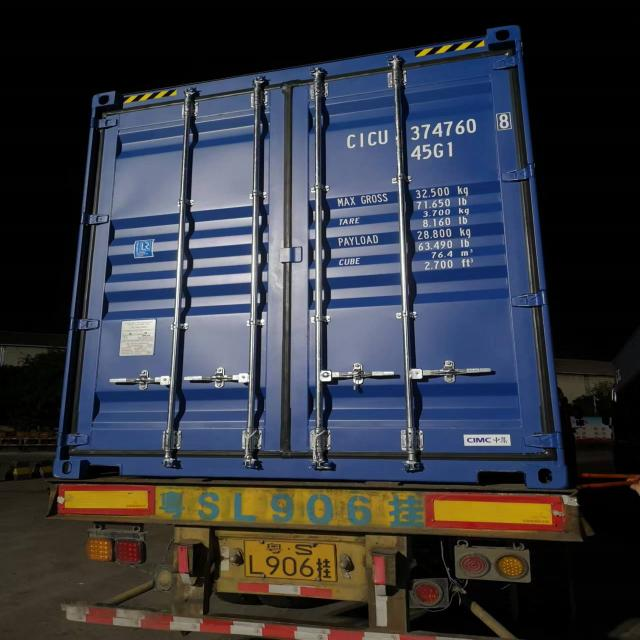seal: (347, 359, 367, 396)
